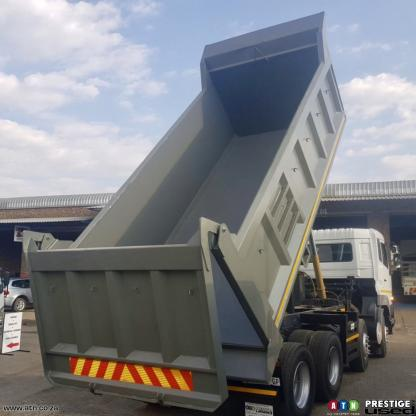dump_truck: (20, 10, 416, 416)
